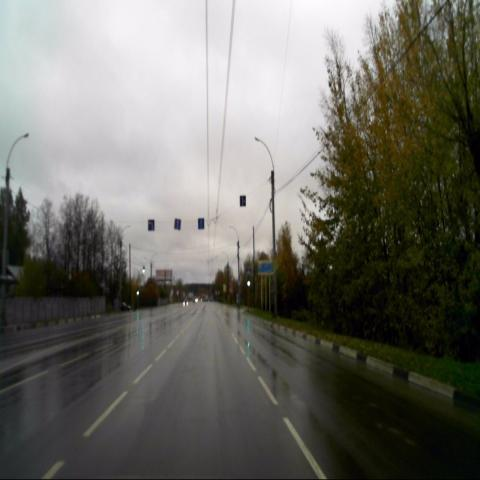5_15_2: (239, 195, 246, 208), (174, 218, 180, 231), (198, 216, 204, 229), (148, 218, 154, 230)
